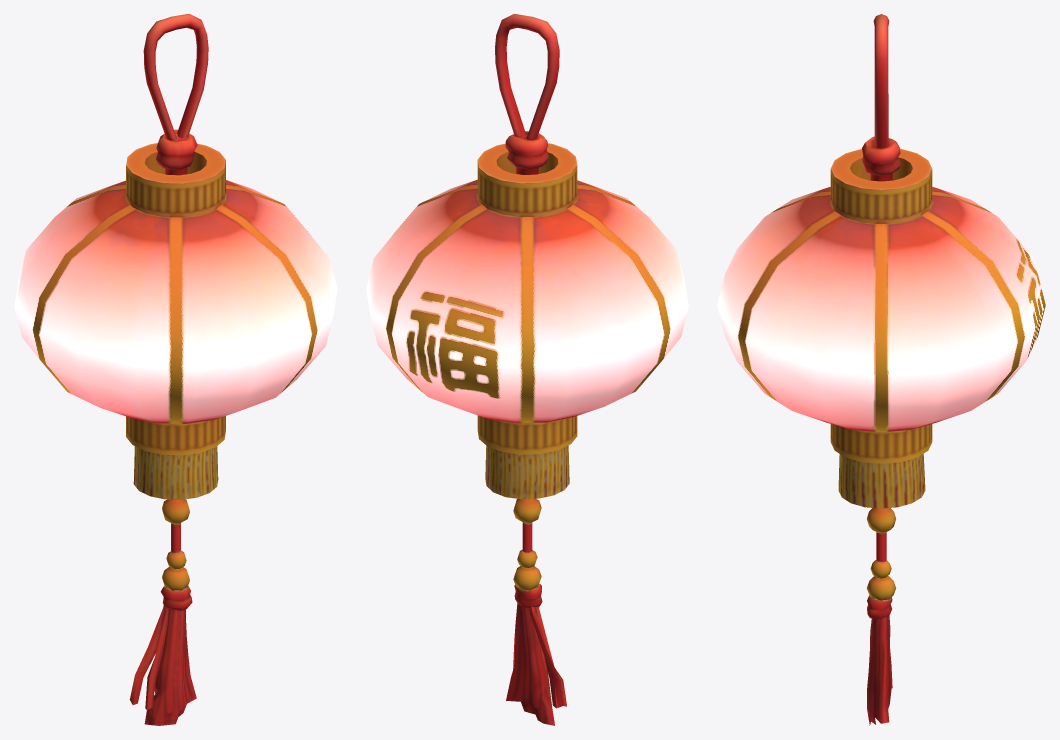
File: Pfb_Lattern.fbx
3 renders of one model, left to right at view 1: azimuth 30°, elevation 25°; view 2: azimuth 150°, elevation 25°; view 3: azimuth 270°, elevation 25°, orthographic.
Parts seen in each view (by area): view 1: Mat_ChineseLantern_01; view 2: Mat_ChineseLantern_01; view 3: Mat_ChineseLantern_01.
Boxes of the visible parts, left/top/right/bottom form: Mat_ChineseLantern_01: left=14, top=14, right=337, bottom=725; Mat_ChineseLantern_01: left=366, top=14, right=688, bottom=725; Mat_ChineseLantern_01: left=717, top=14, right=1045, bottom=725.
Bounding box in the file's own units: 1.5 × 3.57 × 1.5.
Materials: 1 (1 with a texture image).
